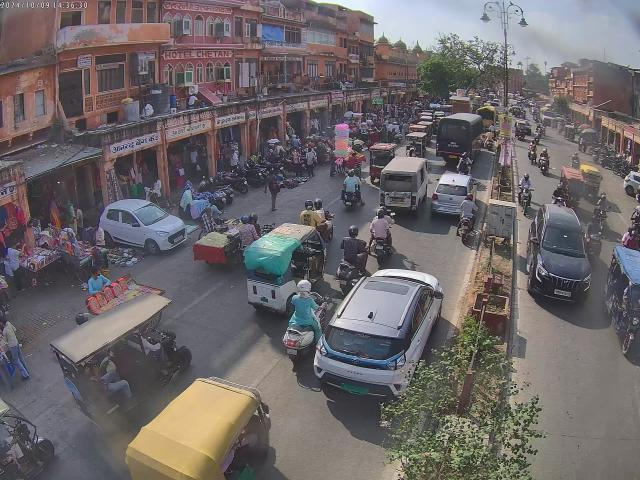auto: (50, 294, 192, 418), (122, 376, 274, 480), (242, 223, 329, 316), (603, 244, 640, 360), (569, 163, 603, 202), (404, 132, 426, 157), (513, 118, 531, 139)
bus: (376, 158, 428, 218), (435, 109, 484, 161)
car: (314, 268, 446, 400), (524, 201, 594, 307), (281, 279, 326, 363), (432, 172, 479, 214), (622, 168, 640, 198)
helmet: (295, 279, 313, 296), (302, 199, 318, 210), (347, 225, 360, 237), (375, 209, 385, 218), (522, 172, 530, 182), (346, 169, 354, 178), (600, 193, 606, 202), (556, 184, 562, 192), (542, 148, 548, 155)
license_plate: (336, 379, 370, 394), (554, 288, 572, 298), (287, 348, 298, 358), (259, 296, 270, 304), (391, 197, 404, 203), (338, 278, 347, 286), (444, 206, 456, 212)
motorbike-rider: (454, 193, 484, 246), (367, 208, 395, 259), (591, 193, 613, 228), (516, 182, 534, 214), (528, 142, 538, 160)
person: (266, 170, 282, 210), (60, 222, 76, 244), (150, 177, 162, 201)
scooty-rider: (338, 224, 370, 288), (298, 200, 337, 246), (340, 169, 364, 211), (552, 182, 572, 208), (538, 149, 551, 174), (456, 154, 472, 174)
vendor: (190, 200, 242, 258)
